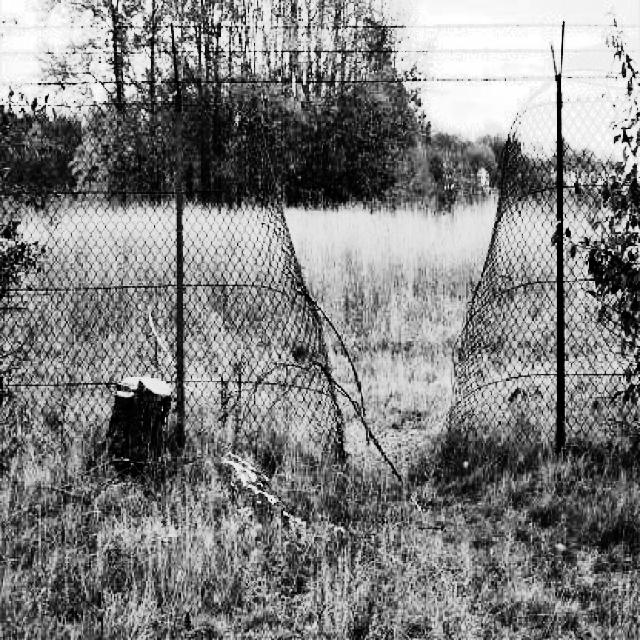anomaly-fence: (218, 76, 572, 479)
